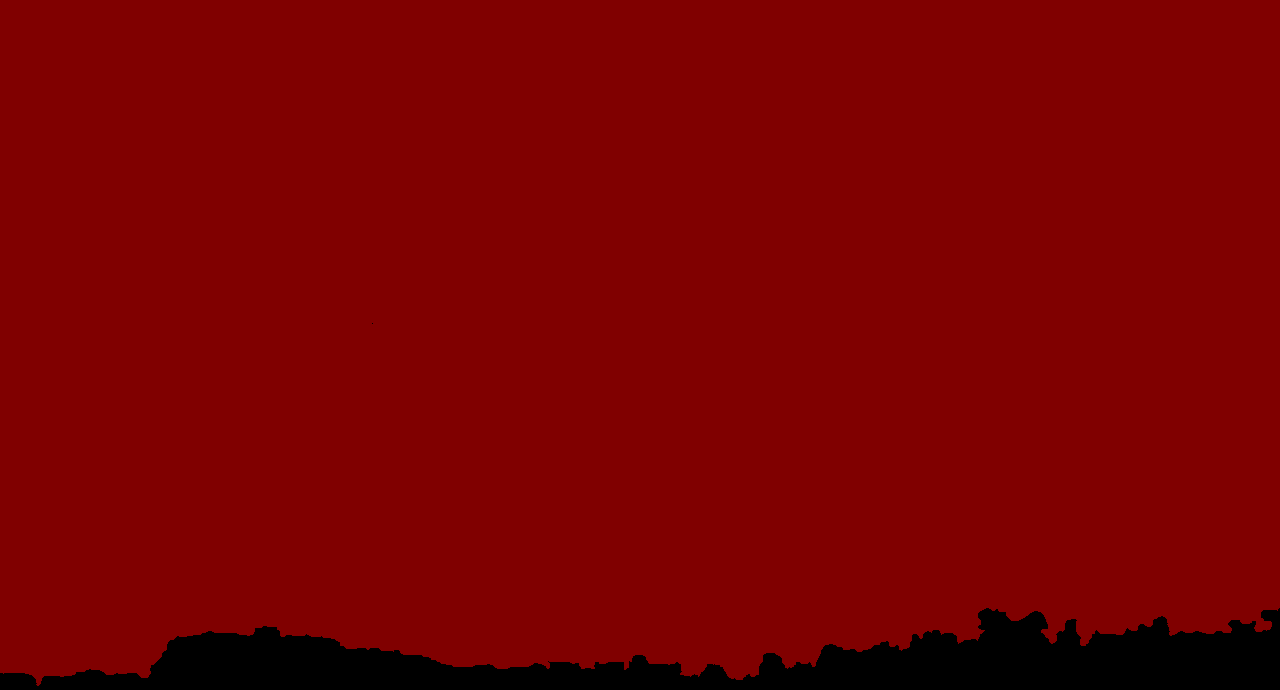Sky: (1, 1, 1279, 685)
